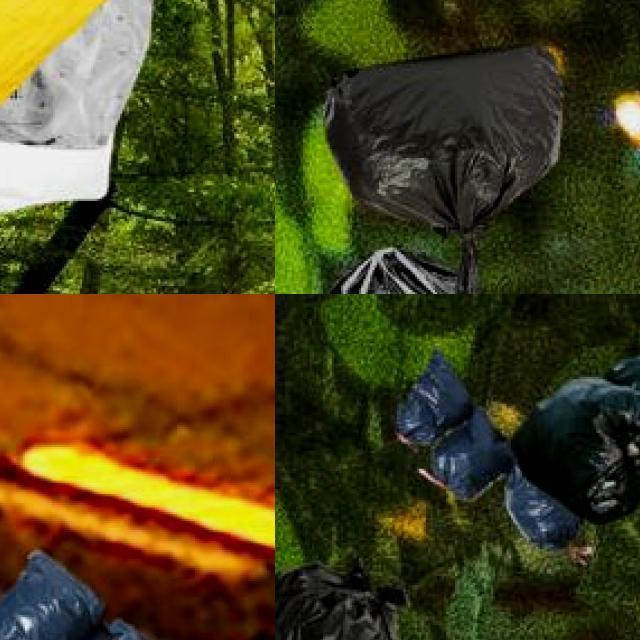waste: (328, 45, 564, 228), (0, 0, 151, 208), (515, 373, 640, 511), (0, 548, 103, 640), (429, 416, 517, 502), (392, 348, 476, 436), (608, 353, 640, 449)
